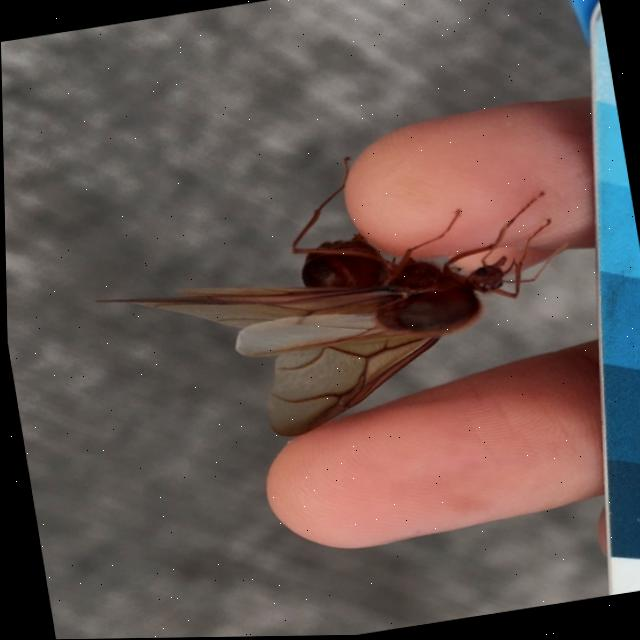Alive-Male-Alate: (75, 125, 594, 467)
